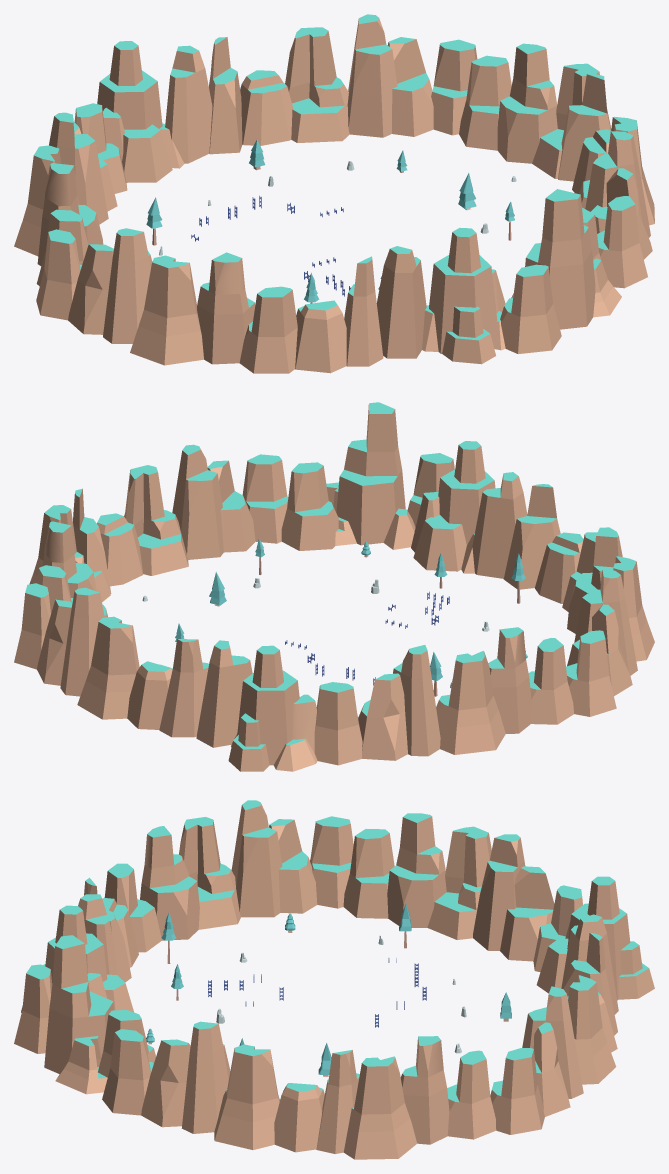
Rendered from decorations.glb.
3 renders of one model, top to bottom at view 1: azimuth 30°, elevation 25°; view 2: azimuth 150°, elevation 25°; view 3: azimuth 270°, elevation 25°, orthographic. The views are drawn at different scales.
Parts seen in each view (by area): view 1: rock_tallB, rock_tallB.001, rock_tallA, rock_tallH.002, rock_tallH, rock_tallG.002, rock_tallI.002, rock_tallG, rock_tallC, rock_tallC.001, rock_tallI, rock_tallF.003 (+23 smaller); view 2: rock_tallA, rock_tallB.001, rock_tallB, rock_tallH.001, rock_tallH.002, rock_tallI.003, rock_tallH.004, rock_tallF.009, rock_tallC.001, rock_tallC, rock_tallJ.001, rock_tallF.005 (+24 smaller); view 3: rock_tallA, rock_tallH.003, rock_tallH.004, rock_tallB.001, rock_tallG.001, rock_tallI, rock_tallH.001, rock_tallG, rock_tallH, rock_tallI.003, rock_tallG.002, rock_tallI.001 (+23 smaller).
Boxes of the visible parts, x1,y1,x2,y2 form: rock_tallB: (422,227,505,364); rock_tallB.001: (97,41,184,182); rock_tallA: (511,189,621,329); rock_tallH.002: (285,27,349,142); rock_tallH: (130,255,203,365); rock_tallG.002: (497,43,557,163); rock_tallI.002: (347,14,397,137); rock_tallG: (197,252,255,364); rock_tallC: (376,246,426,358); rock_tallC.001: (165,45,212,163); rock_tallI: (103,228,152,343); rock_tallF.003: (500,264,561,353); rock_tallA: (326,402,415,549); rock_tallB.001: (228,645,317,771); rock_tallB: (411,441,495,573); rock_tallH.001: (436,651,505,754); rock_tallH.002: (77,616,139,719); rock_tallI.003: (172,444,223,559); rock_tallH.004: (124,465,188,575); rock_tallF.009: (281,462,338,550); rock_tallC.001: (196,640,252,747); rock_tallC: (472,472,527,578); rock_tallJ.001: (358,673,407,760); rock_tallF.005: (314,682,362,765); rock_tallA: (44,935,114,1094); rock_tallH.003: (343,1056,416,1159); rock_tallH.004: (214,1044,280,1149); rock_tallB.001: (536,876,654,1000); rock_tallG.001: (387,813,446,927); rock_tallI: (231,800,282,917); rock_tallH.001: (427,826,491,939); rock_tallG: (140,826,199,940); rock_tallH: (179,817,240,929); rock_tallI.003: (181,1021,230,1133); rock_tallG.002: (400,1036,449,1144); rock_tallI.001: (473,834,525,950).
Size of the model in its own units: 166 by 33.25 by 161.
68 materials, 1 textured.
